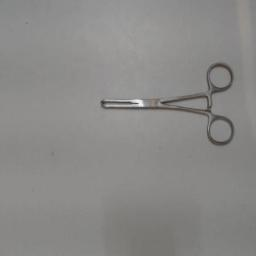Allis Tissue Forceps: (96, 58, 236, 152)
